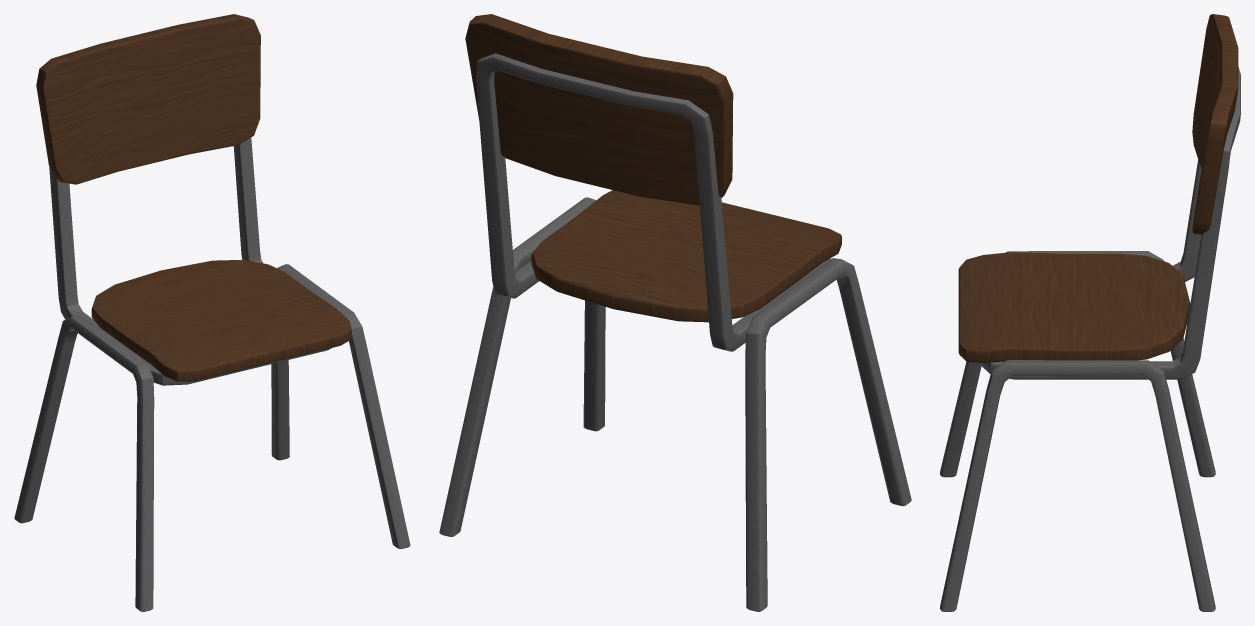
The model's file is chair.glb.
3 renders of one model, left to right at view 1: azimuth 30°, elevation 25°; view 2: azimuth 150°, elevation 25°; view 3: azimuth 270°, elevation 25°, orthographic. The views are drawn at different scales.
Parts seen in each view (by area): view 1: chair_stackable_LOD0; view 2: chair_stackable_LOD0; view 3: chair_stackable_LOD0.
Part boxes in pixels (left/top/right/bottom): chair_stackable_LOD0: left=14, top=14, right=410, bottom=611; chair_stackable_LOD0: left=439, top=14, right=911, bottom=611; chair_stackable_LOD0: left=940, top=14, right=1240, bottom=611.
Size of the model in its own units: 0.624 by 0.9846 by 0.5597.
Materials: 1 (1 with a texture image).
